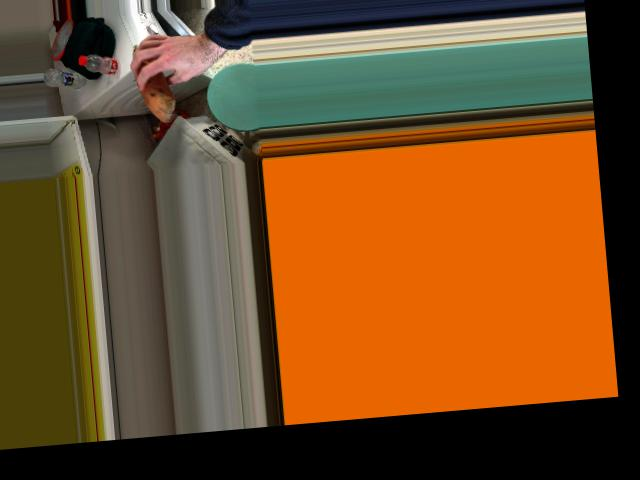sweet_potato: (130, 37, 174, 122)
